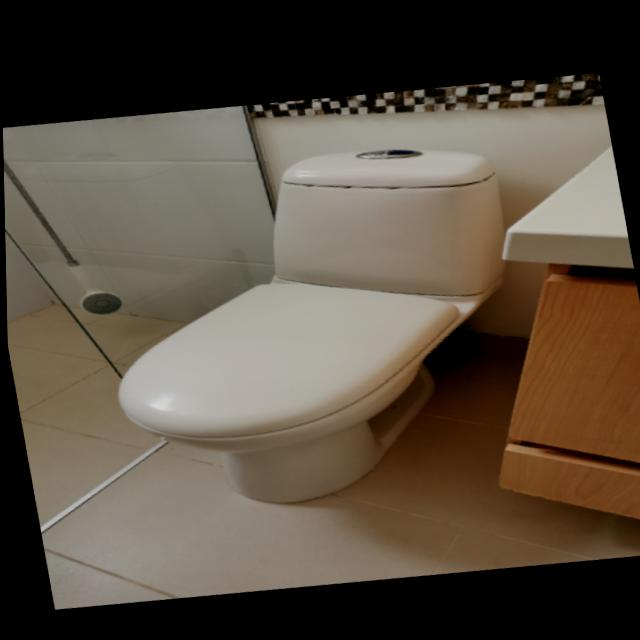toilet: (74, 109, 550, 538)
